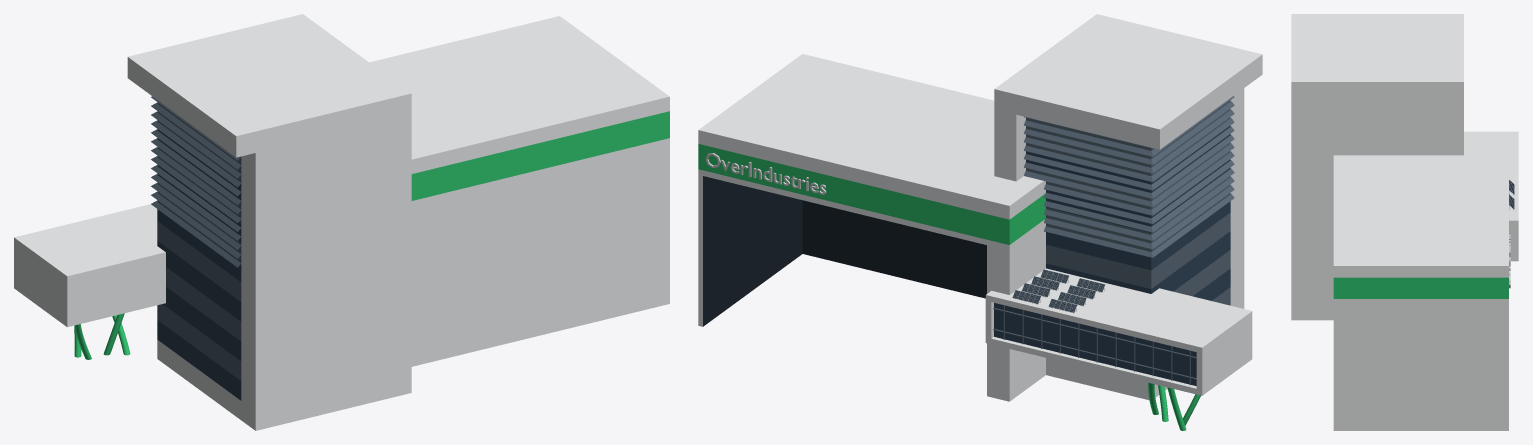
File: Factory_001.fbx
3 renders of one model, left to right at view 1: azimuth 30°, elevation 25°; view 2: azimuth 150°, elevation 25°; view 3: azimuth 270°, elevation 25°, orthographic. The views are drawn at different scales.
Parts seen in each view (by area): view 1: Factory_001V3.002; view 2: Factory_001V3.002; view 3: Factory_001V3.002.
Part boxes in pixels (left/top/right/bottom): Factory_001V3.002: left=14, top=14, right=669, bottom=430; Factory_001V3.002: left=698, top=14, right=1262, bottom=430; Factory_001V3.002: left=1291, top=14, right=1518, bottom=430.
Bounding box in the file's own units: 11300 × 5994 × 5189.
